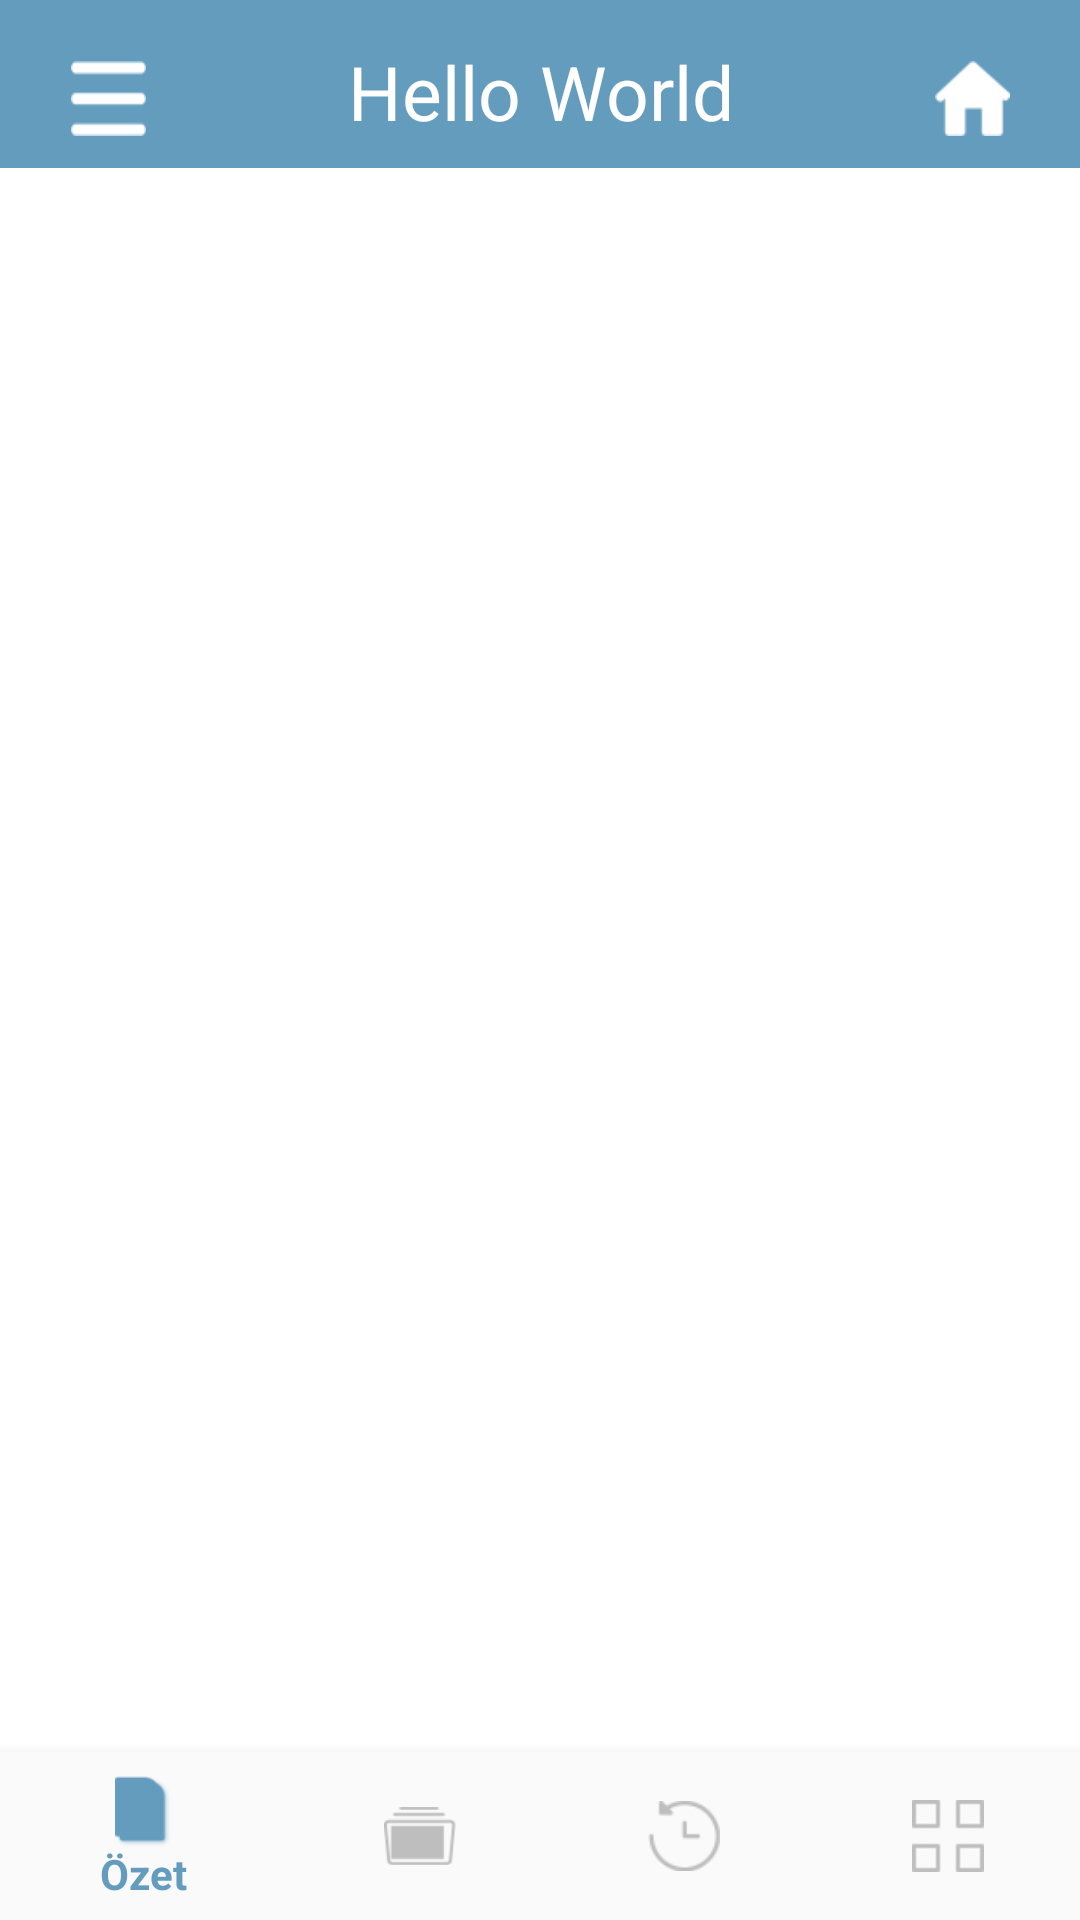

Named icons in this screenshot (1080px x 1920px) and their centers, (x,y):
homeicon: (972,98)
menuicon: (108,98)
